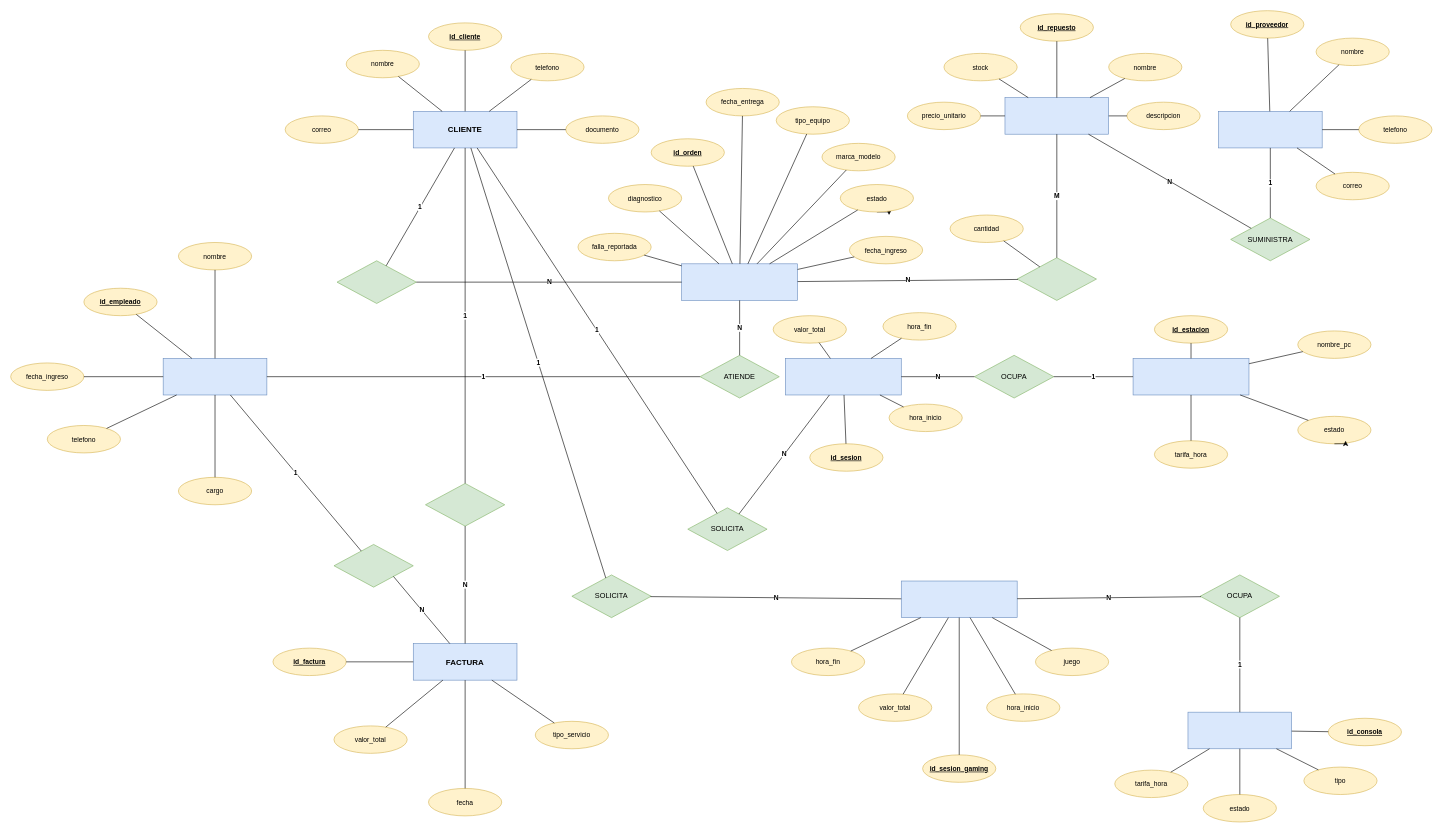
Image size: 1443x833. Some labels were removed from this diagram. The centre of each missing label's shape, as x and y in pixels:
"CONSOLA" goes at point 1239,730.
"EMITE" goes at point 373,565.
"EMPLEADO" goes at point 215,376.
"ESTACION_CYBER" goes at point 1190,376.
"GENERA" goes at point 376,281.
"ORDEN_SERVICIO" goes at point 739,281.
"PROVEEDOR" goes at point 1270,129.
"RECIBE" goes at point 465,504.
"REPUESTO" goes at point 1056,115.
"SESION_GAMING" goes at point 959,599.
"SESION_INTERNET" goes at point 843,376.
"USA" goes at point 1056,278.
